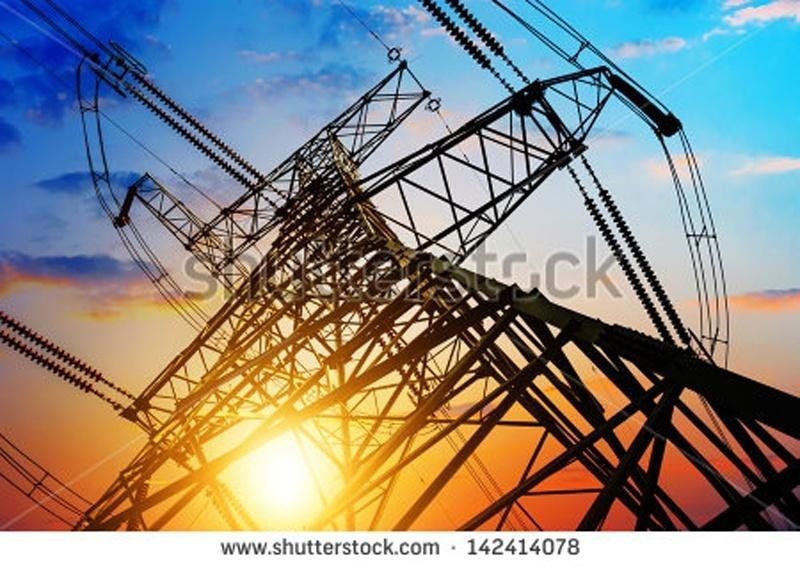power_tower: (13, 43, 789, 526)
